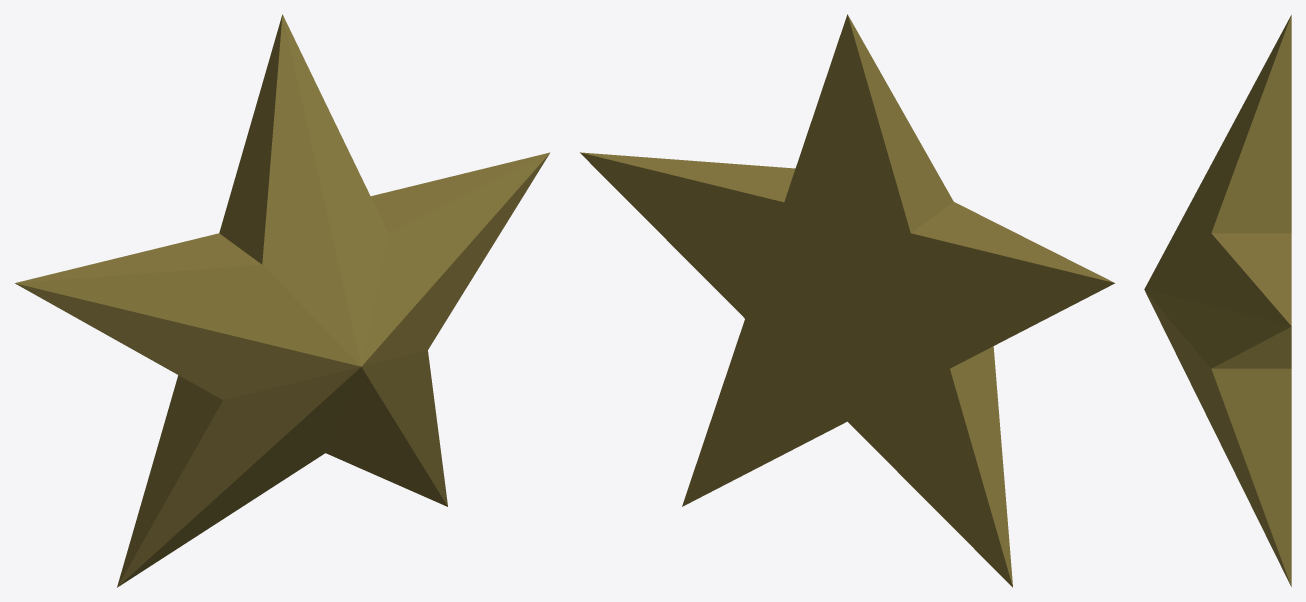
File: gold_star.glb
3 views of the same model, side by side, from view 1: azimuth 30°, elevation 25°; view 2: azimuth 150°, elevation 25°; view 3: azimuth 270°, elevation 25° (orthographic). The views are drawn at different scales.
Parts seen in each view (by area): view 1: Star_1; view 2: Star_1; view 3: Star_1.
Part boxes in pixels (x1=…): Star_1: x1=15, y1=14, x2=550, y2=587; Star_1: x1=580, y1=14, x2=1114, y2=587; Star_1: x1=1144, y1=15, x2=1291, y2=586.
Size of the model in its own units: 0.1594 by 0.1516 by 0.0407.
